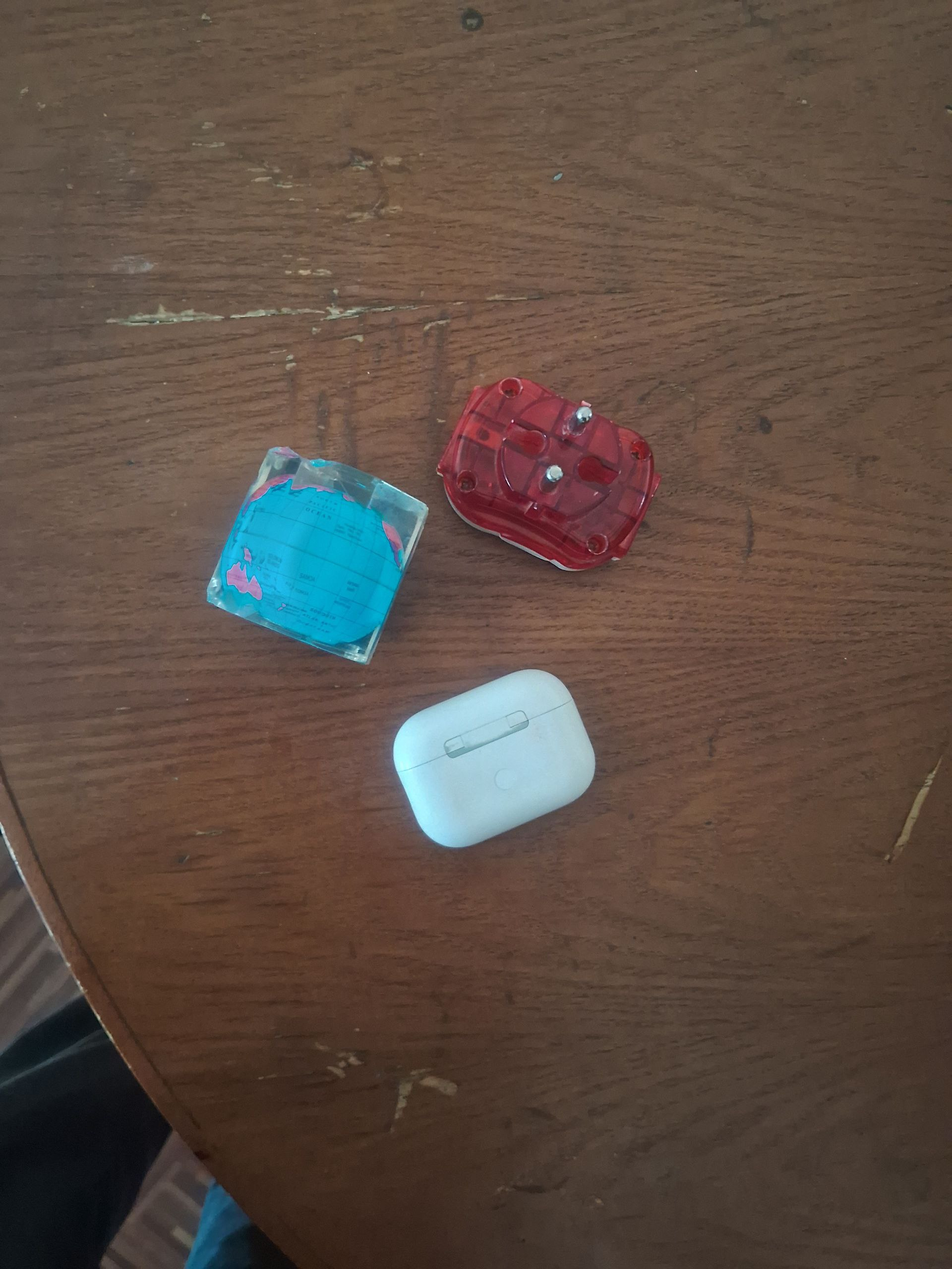Air_pod: (390, 668, 600, 850)
Multi_adapter: (435, 374, 665, 575)
world_globe: (204, 437, 430, 668)
